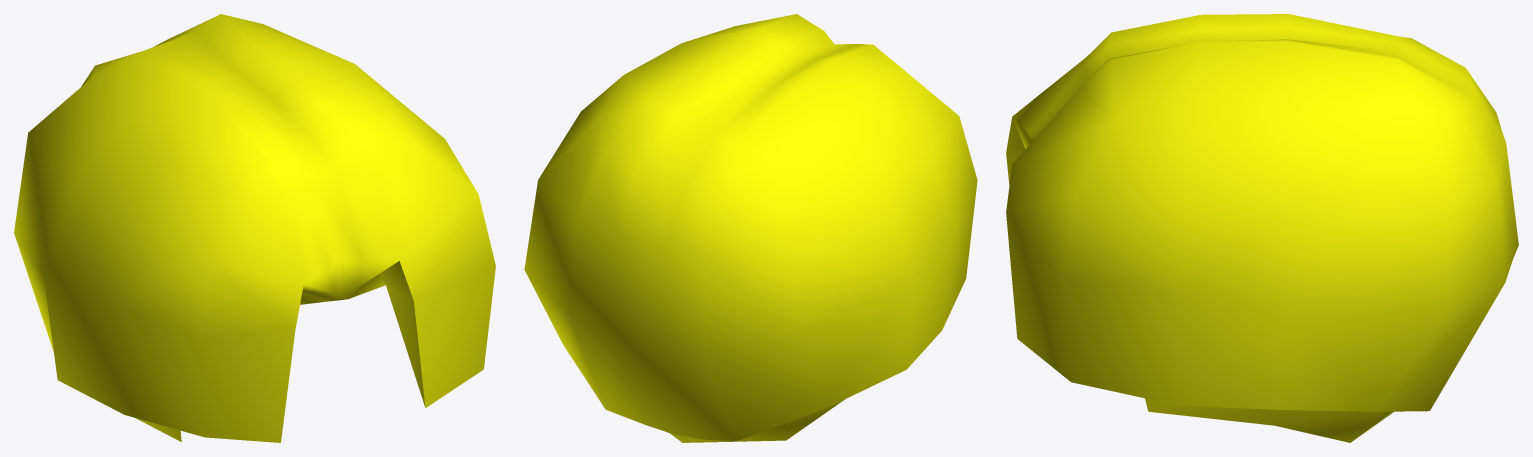
The model's file is hair_newlevi.glb.
3 renders of one model, left to right at view 1: azimuth 30°, elevation 25°; view 2: azimuth 150°, elevation 25°; view 3: azimuth 270°, elevation 25°, orthographic. The views are drawn at different scales.
Parts seen in each view (by area): view 1: NewLeviHair; view 2: NewLeviHair; view 3: NewLeviHair.
Part boxes in pixels (x1,y1,x2,y2): NewLeviHair: (14,14,495,442); NewLeviHair: (524,14,977,442); NewLeviHair: (1006,14,1518,442).
Size of the model in its own units: 0.6201 by 0.5693 by 0.7095.
Materials: 1 (1 with a texture image).
